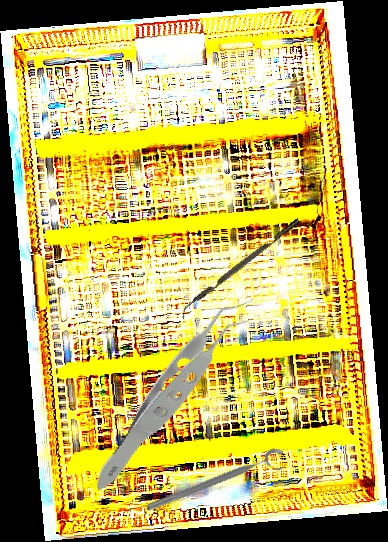Chopper: (175, 218, 306, 320)
Fixation Ring: (143, 445, 291, 523)
Tissue Forceps: (51, 292, 305, 495)
